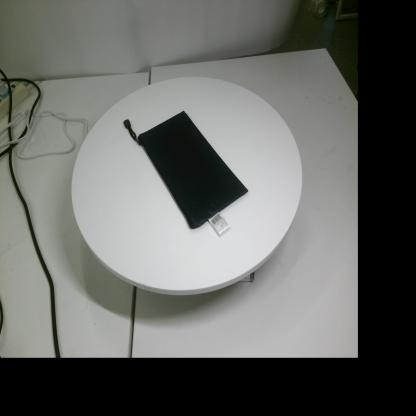Stationery: (124, 110, 249, 236)
